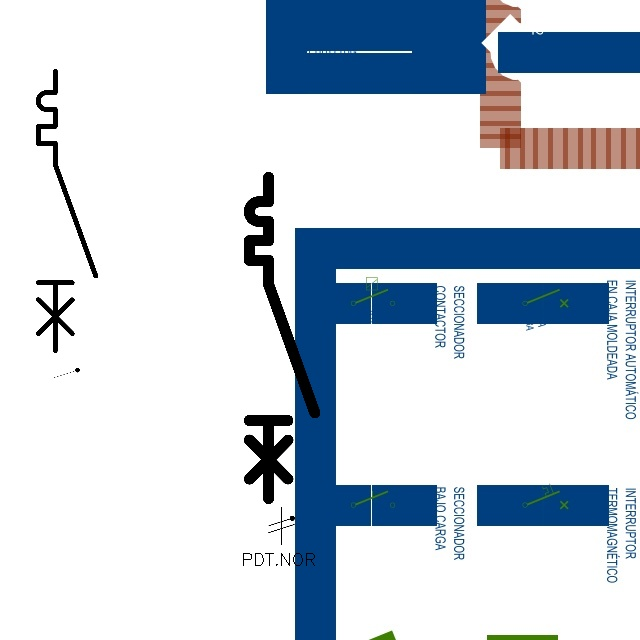interruptor_termomagnetico: (241, 169, 323, 507), (31, 64, 103, 358)
